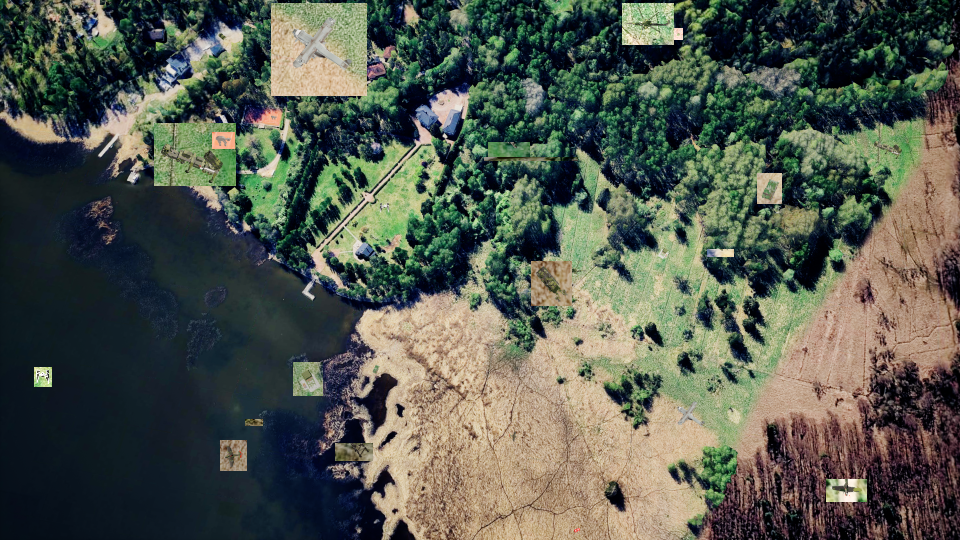condor: (271, 3, 367, 96)
hangar: (484, 157, 578, 161)
helicopter: (622, 3, 674, 45)
jammer: (757, 173, 782, 204)
jet_plane: (488, 142, 530, 158)
large_launcher: (154, 123, 236, 186)
large_tower: (335, 443, 373, 461)
medium_launcher: (245, 419, 263, 426)
medium_plane: (826, 479, 867, 502)
mine_roller: (531, 261, 572, 306)
small_launcher: (674, 28, 683, 40)
small_plane: (220, 440, 247, 471)
small_tower: (293, 362, 323, 396)
spacecraft: (34, 367, 52, 387)
ta-ta: (212, 132, 235, 149)
tank: (707, 249, 734, 257)
